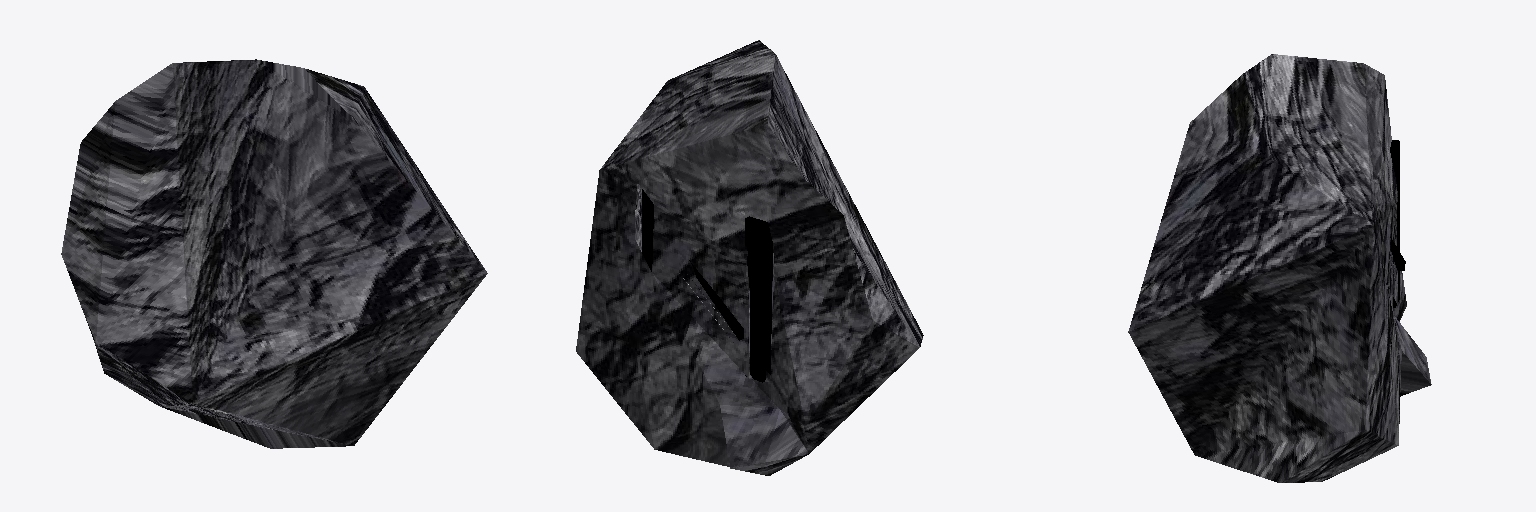
The picture shows the model from 3 angles: view 1: azimuth 30°, elevation 25°; view 2: azimuth 150°, elevation 25°; view 3: azimuth 270°, elevation 25°; orthographic projection.
Parts seen in each view (by area): view 1: pPlatonic5; view 2: pPlatonic5, polySurface11 polySurface5, polySurface5 polySurface13, polySurface10 polySurface4; view 3: pPlatonic5, polySurface11 polySurface5.
Boxes of the visible parts, <box> form: pPlatonic5: <box>61,59,487,448</box>; pPlatonic5: <box>576,40,923,475</box>; polySurface11 polySurface5: <box>745,216,772,382</box>; polySurface5 polySurface13: <box>642,189,653,271</box>; polySurface10 polySurface4: <box>653,207,743,340</box>; pPlatonic5: <box>1128,54,1431,482</box>; polySurface11 polySurface5: <box>1390,140,1399,307</box>.
Bounding box in the file's own units: 2.56 × 3.14 × 2.15.
Materials: 5 (1 with a texture image).